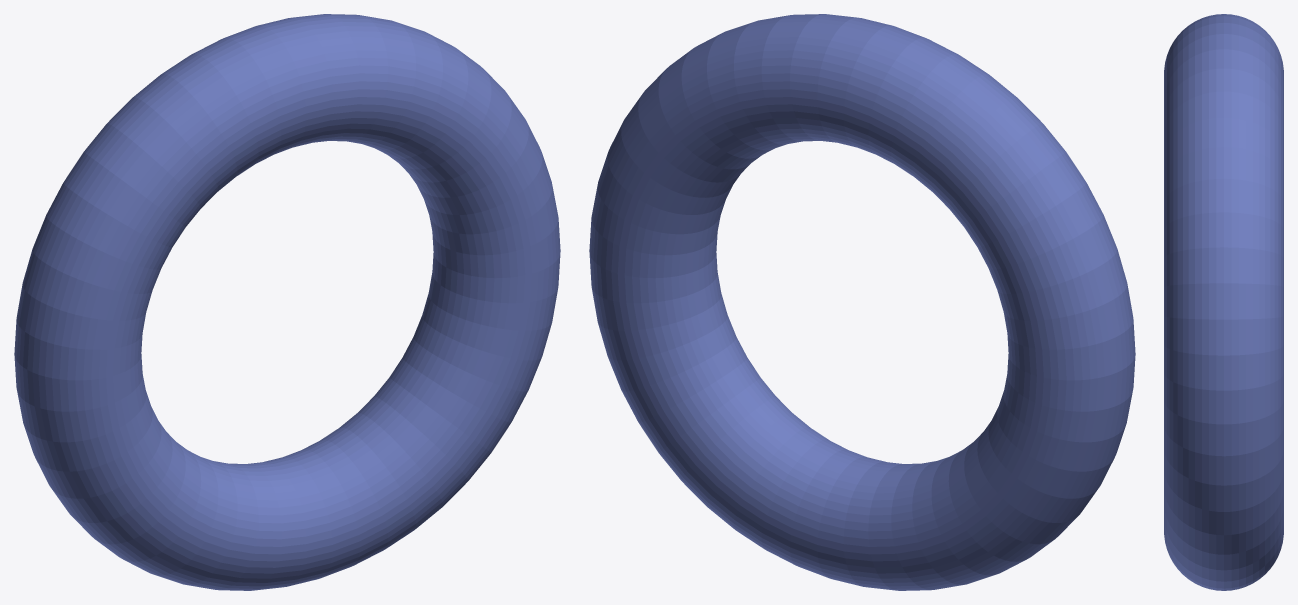
3 renders of one model, left to right at view 1: azimuth 30°, elevation 25°; view 2: azimuth 150°, elevation 25°; view 3: azimuth 270°, elevation 25°, orthographic. The views are drawn at different scales.
Parts seen in each view (by area): view 1: world; view 2: world; view 3: world.
Part boxes in pixels (bbox=[...]): world: bbox=[14, 14, 560, 590]; world: bbox=[589, 14, 1135, 590]; world: bbox=[1164, 14, 1283, 590].
Size of the model in its own units: 13.47 by 13.44 by 2.79.
